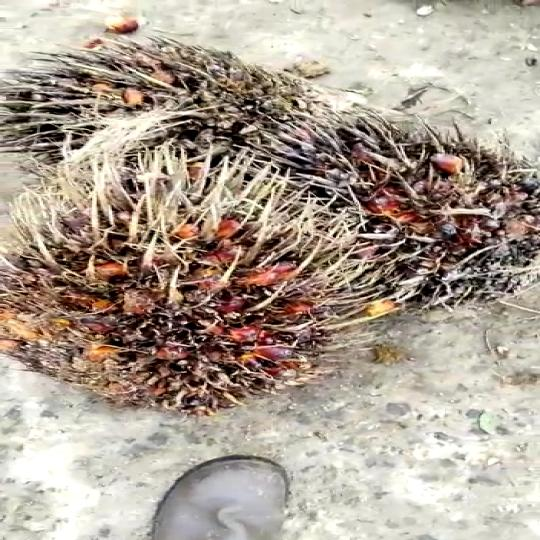terlalu masak: (0, 167, 396, 413), (244, 113, 540, 296), (0, 50, 344, 167)
